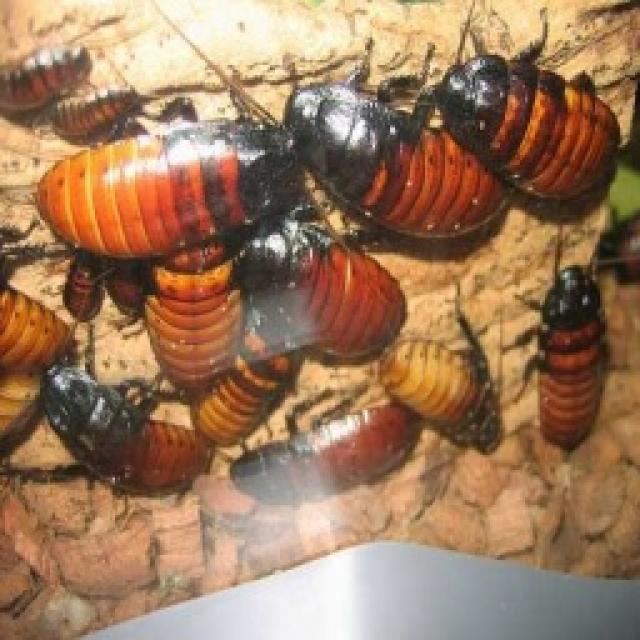cockroach: (260, 74, 525, 278), (19, 130, 307, 249), (35, 362, 191, 544), (239, 214, 408, 368), (110, 212, 245, 392), (242, 379, 410, 522), (369, 317, 520, 471), (522, 271, 620, 491), (424, 40, 569, 188), (206, 302, 293, 461)
